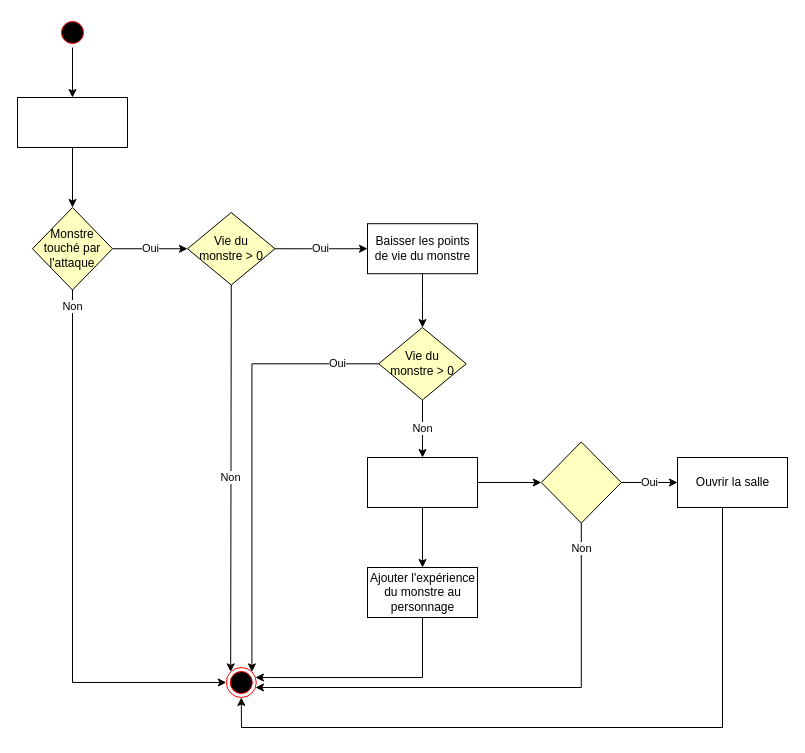
Some shapes in this 805 by 753 pixel diagram are drawn without their labels. Here are the shapes that lost their labels. From the top down, the centre of each, then its label:
pixel 72 122: Appuyer sur le bouton "Attaquer"
pixel 422 482: Faire mourir le monstre
pixel 580 482: Dernier monstre de la salle
